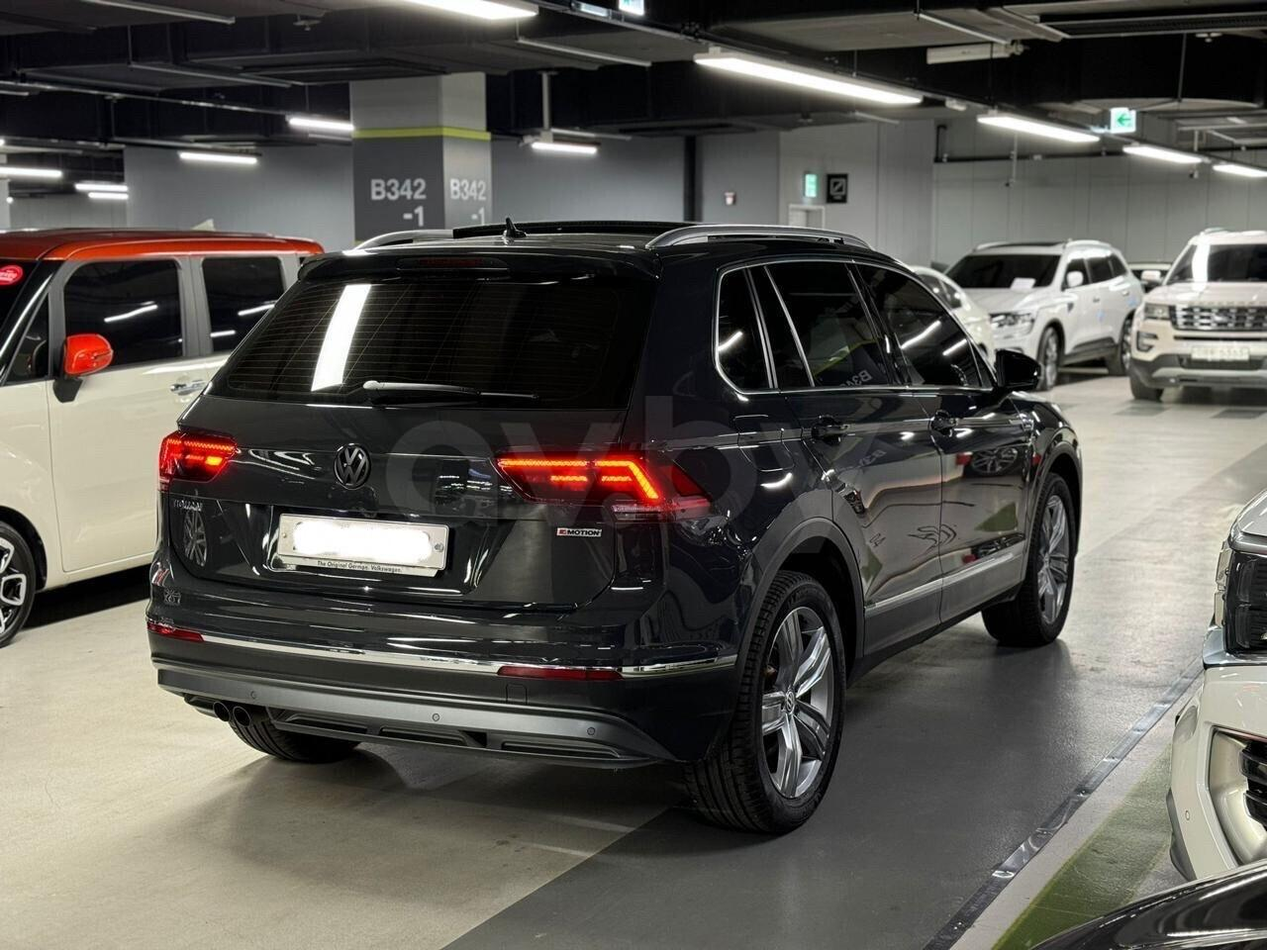Tiguan_2016-2021: (147, 226, 1084, 841)
